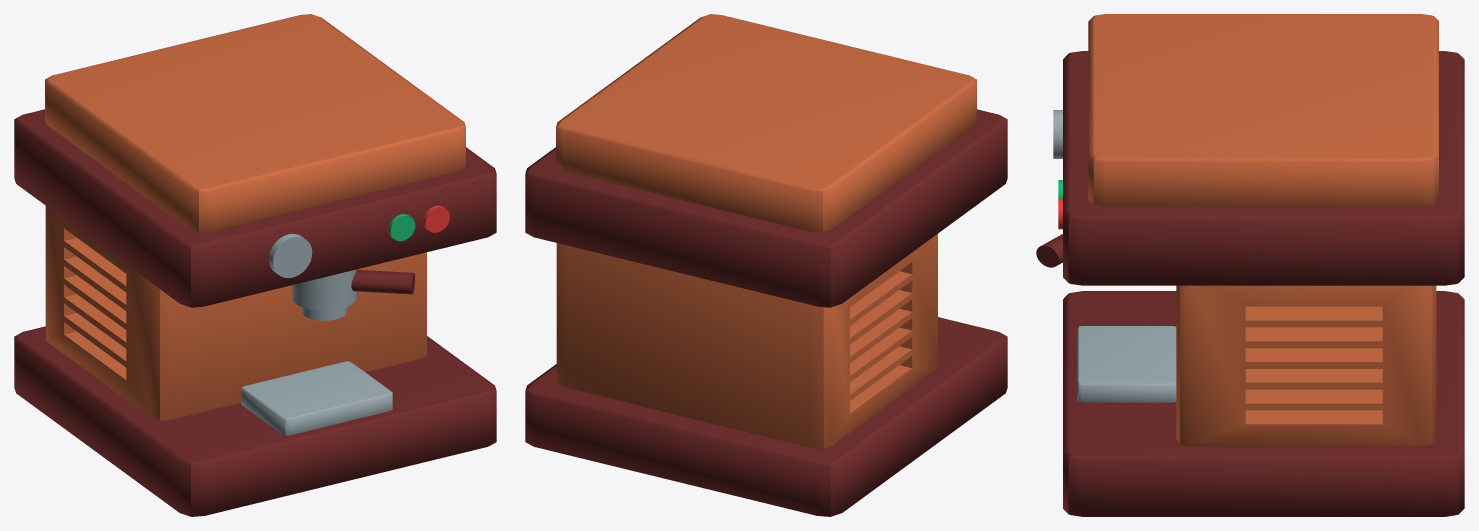
Rendered from ekspres.gltf.
3 renders of one model, left to right at view 1: azimuth 30°, elevation 25°; view 2: azimuth 150°, elevation 25°; view 3: azimuth 270°, elevation 25°, orthographic. The views are drawn at different scales.
Parts seen in each view (by area): view 1: Cube.002, Cube, Cube.003, Cube.001, Cube.004, Cylinder, Cylinder.003, Cylinder.002, Cylinder.005, Cylinder.004; view 2: Cube.002, Cube.003, Cube.001, Cube; view 3: Cube.002, Cube, Cube.003, Cube.001, Cube.004, Cylinder.002, Cylinder.003.
Part boxes in pixels (x1,y1,x2,y2): Cube.002: [45, 14, 465, 232]; Cube: [14, 326, 496, 516]; Cube.003: [45, 206, 426, 420]; Cube.001: [14, 109, 496, 307]; Cube.004: [241, 361, 392, 435]; Cylinder: [292, 269, 356, 310]; Cylinder.003: [269, 233, 312, 278]; Cylinder.002: [351, 270, 414, 294]; Cylinder.005: [423, 205, 449, 232]; Cylinder.004: [389, 214, 415, 241]; Cube.002: [556, 14, 976, 232]; Cube.003: [556, 234, 937, 449]; Cube.001: [525, 109, 1007, 307]; Cube: [525, 317, 1007, 516]; Cube.002: [1088, 14, 1438, 206]; Cube: [1063, 291, 1464, 516]; Cube.003: [1176, 285, 1436, 446]; Cube.001: [1063, 51, 1464, 285]; Cube.004: [1077, 326, 1176, 402]; Cylinder.002: [1036, 234, 1062, 267]; Cylinder.003: [1053, 110, 1062, 158].
Size of the model in its own units: 3.58 by 3.44 by 3.82.
Materials: 1 (1 with a texture image).
